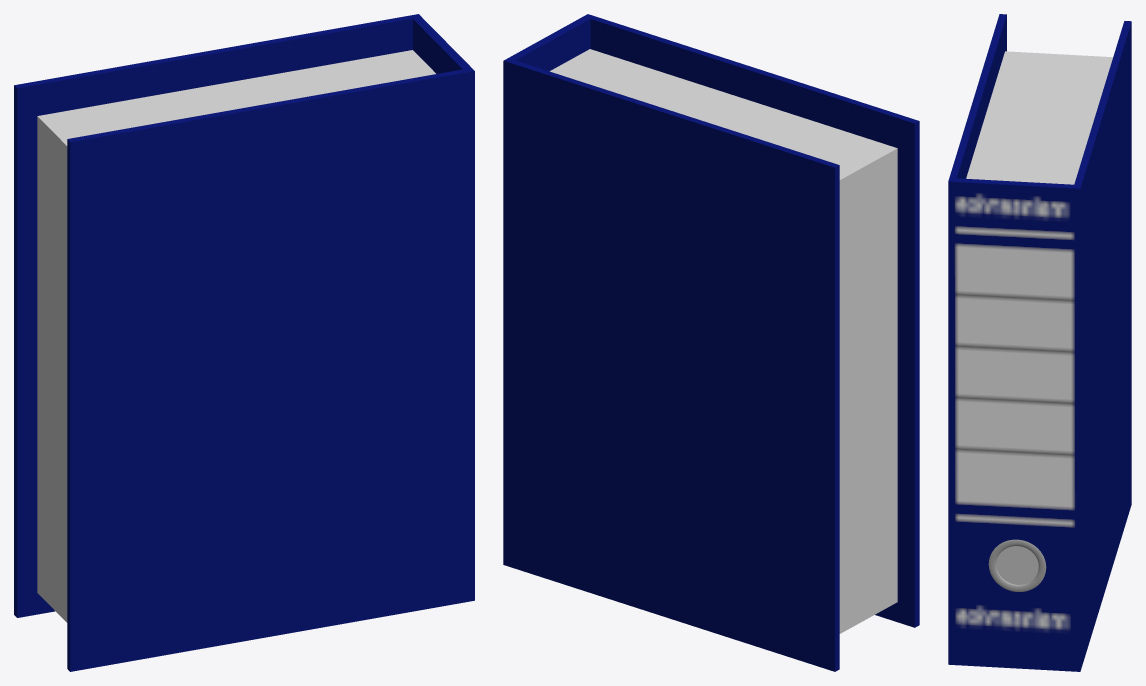
File: NewWebGianfrancaOBJ.gltf
The picture shows the model from 3 angles, left to right: view 1: azimuth 30°, elevation 25°; view 2: azimuth 150°, elevation 25°; view 3: azimuth 270°, elevation 25°; orthographic projection. The views are drawn at different scales.
Parts seen in each view (by area): view 1: Faldone Dritto; view 2: Faldone Dritto; view 3: Faldone Dritto.
Boxes of the visible parts, x1=… form: Faldone Dritto: x1=14, y1=14, x2=474, y2=671; Faldone Dritto: x1=503, y1=14, x2=919, y2=671; Faldone Dritto: x1=948, y1=14, x2=1131, y2=671.
Size of the model in its own units: 0.0595 by 0.0767 by 0.0264.
3 materials, 1 textured.
